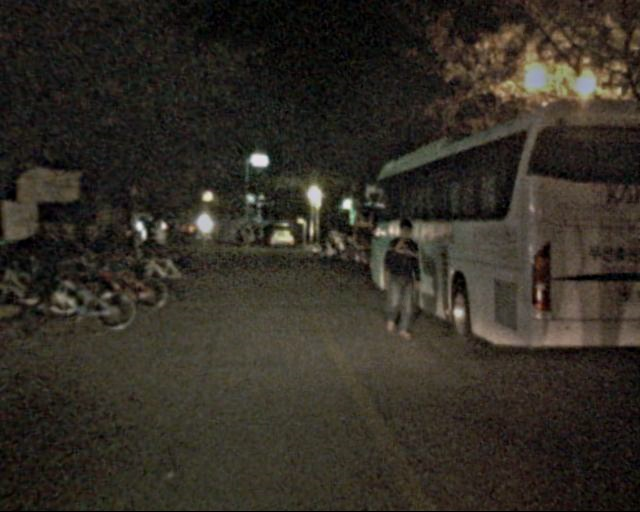person: (376, 222, 425, 341), (150, 216, 174, 275)
